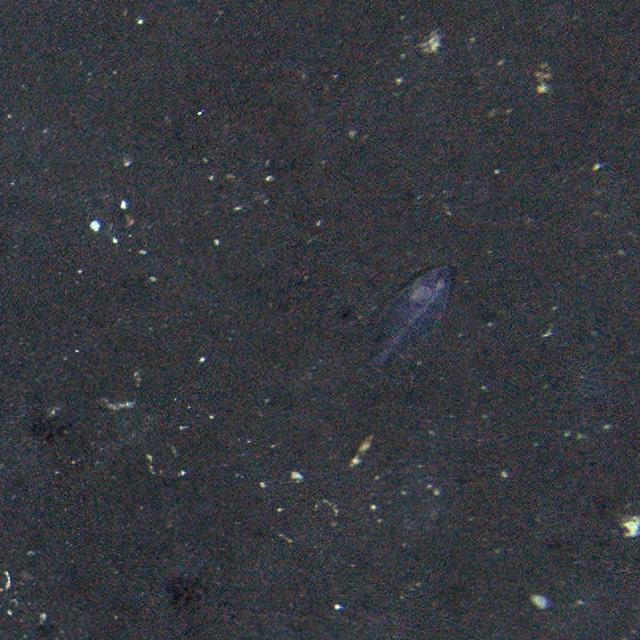flatfish: (364, 262, 450, 382)
